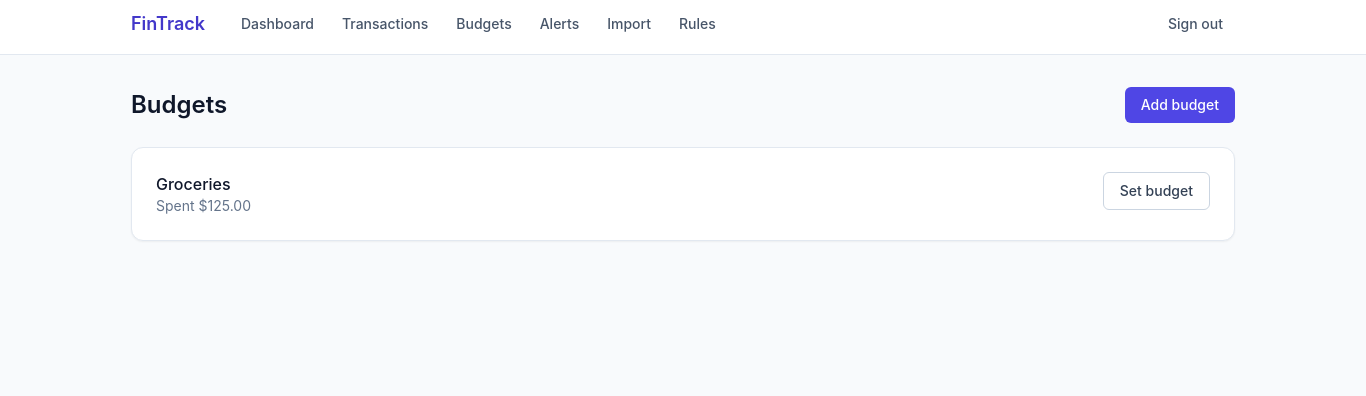
Test: BudgetsPage (FINTRACK-55) › negative path: a non-positive budget limit is rejected client-side
The width and height of the screenshot is (1366, 396).
Step 1. Click the button with test id "set-budget-Groceries" → (1156, 191), box [1103,172,1210,210]
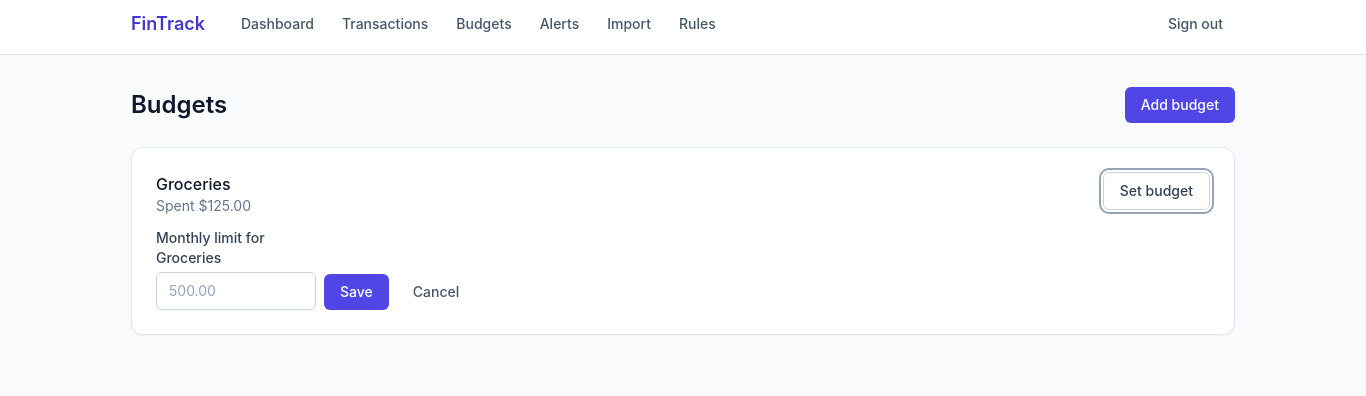
Step 2. Type "-50" into the field labelled "Monthly limit for Groceries" → (236, 291), box [156,272,316,310]
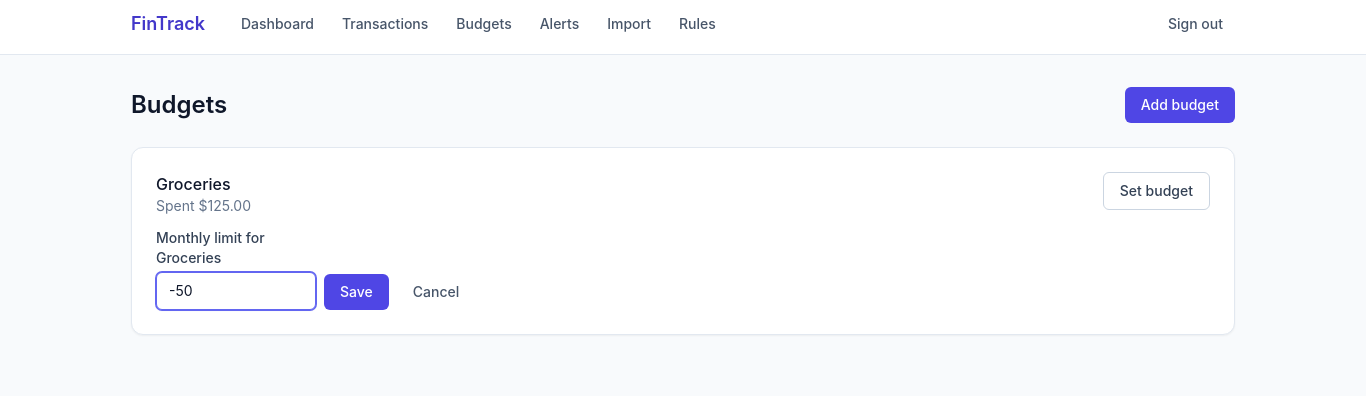
Step 3. Click the button with test id "save-new-budget-Groceries" → (356, 292), box [324,274,389,310]
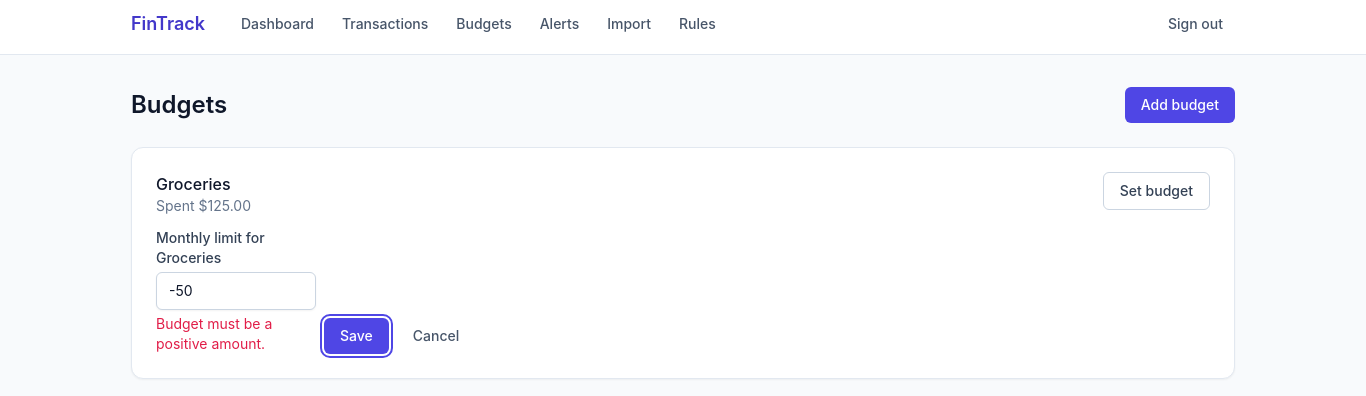
Expected: the text "Budget must be a positive amount." is shown, [156,315,272,352]
